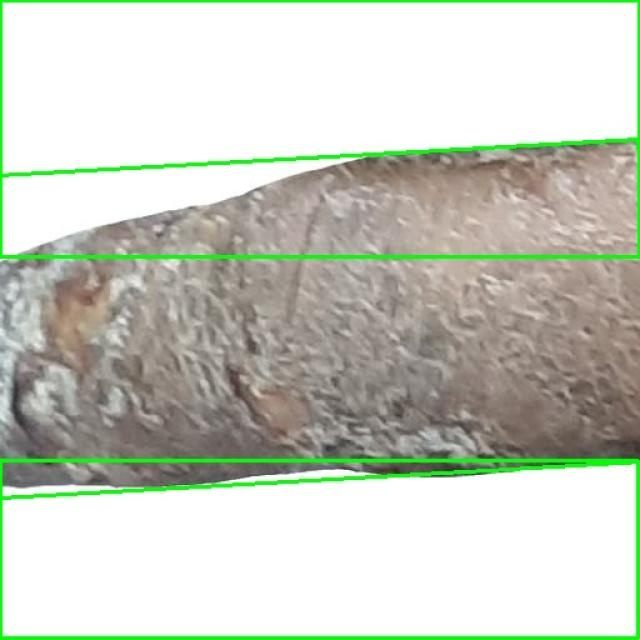Eczema: (0, 139, 640, 498), (0, 0, 639, 258), (0, 461, 639, 639)
